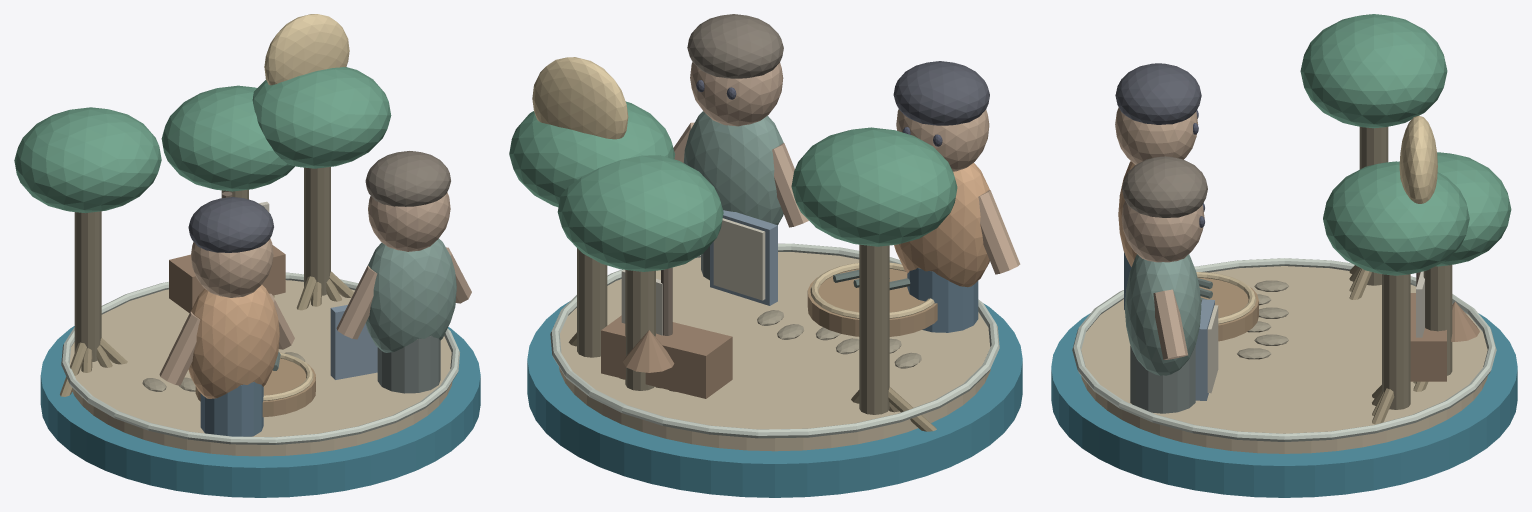
File: the-map-beneath-the-mangroves-scene-1.glb
3 renders of one model, left to right at view 1: azimuth 30°, elevation 25°; view 2: azimuth 150°, elevation 25°; view 3: azimuth 270°, elevation 25°, orthographic. The views are drawn at different scales.
Visible parts, largest first — view 1: shore or habitat, deep water plinth, distant mangrove 0 canopy, distant mangrove 1 canopy, distant mangrove 2 canopy, Lolo Ben coat, Naya coat, outer waterline, morning sun, Naya hair, Lolo Ben hair, distant mangrove 0 trunk (+11 smaller); view 2: shore or habitat, deep water plinth, distant mangrove 0 canopy, distant mangrove 2 canopy, distant mangrove 1 canopy, Lolo Ben coat, outer waterline, morning sun, ranger boat hull, Naya coat, distant mangrove 0 trunk, Lolo Ben hair (+16 smaller); view 3: shore or habitat, deep water plinth, distant mangrove 0 canopy, distant mangrove 1 canopy, outer waterline, Lolo Ben coat, distant mangrove 2 canopy, Naya hair, Lolo Ben hair, distant mangrove 1 trunk, Lolo Ben face, Naya face (+13 smaller).
Boxes of the visible parts, x1,y1,x2,y2 form: shore or habitat: [69, 280, 452, 456]; deep water plinth: [40, 326, 480, 497]; distant mangrove 0 canopy: [14, 107, 161, 213]; distant mangrove 1 canopy: [252, 67, 391, 168]; distant mangrove 2 canopy: [161, 85, 294, 191]; Lolo Ben coat: [365, 238, 456, 352]; Naya coat: [188, 284, 279, 398]; outer waterline: [61, 272, 459, 444]; morning sun: [264, 14, 349, 85]; Naya hair: [188, 197, 273, 252]; Lolo Ben hair: [365, 151, 450, 206]; distant mangrove 0 trunk: [74, 211, 101, 361]; shore or habitat: [559, 252, 990, 451]; deep water plinth: [527, 301, 1022, 497]; distant mangrove 0 canopy: [791, 127, 957, 246]; distant mangrove 2 canopy: [557, 155, 723, 271]; distant mangrove 1 canopy: [509, 101, 675, 207]; Lolo Ben coat: [683, 111, 783, 225]; outer waterline: [550, 243, 999, 438]; morning sun: [532, 57, 628, 139]; ranger boat hull: [601, 315, 732, 398]; Naya coat: [894, 163, 989, 287]; distant mangrove 0 trunk: [859, 244, 889, 414]; Lolo Ben hair: [687, 14, 783, 78]; shore or habitat: [1081, 266, 1487, 453]; deep water plinth: [1051, 313, 1517, 497]; distant mangrove 0 canopy: [1300, 14, 1447, 128]; distant mangrove 1 canopy: [1323, 161, 1469, 275]; outer waterline: [1072, 258, 1496, 441]; Lolo Ben coat: [1124, 254, 1201, 375]; distant mangrove 2 canopy: [1399, 152, 1511, 266]; Naya hair: [1115, 63, 1201, 124]; Lolo Ben hair: [1122, 156, 1207, 217]; distant mangrove 1 trunk: [1382, 274, 1410, 409]; Lolo Ben face: [1121, 201, 1204, 262]; Naya face: [1115, 107, 1198, 164].
Size of the model in its own units: 0.7696 by 0.6032 by 0.7592.
